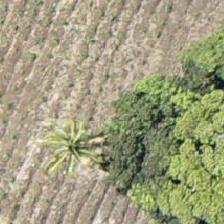coconut_tree: (30, 106, 120, 196)
